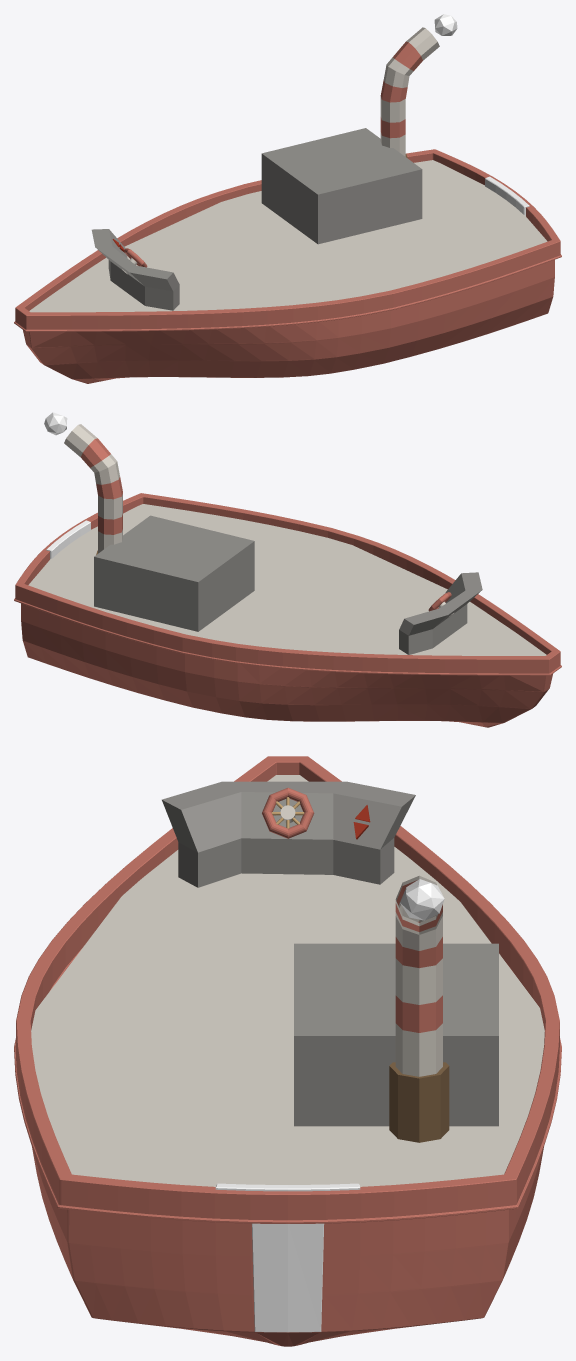
The model's file is boat3.fbx.
The picture shows the model from 3 angles, top to bottom: view 1: azimuth 30°, elevation 25°; view 2: azimuth 150°, elevation 25°; view 3: azimuth 270°, elevation 25°; orthographic projection. The views are drawn at different scales.
Parts seen in each view (by area): view 1: shipBody, deck, room, tube, Control_table; view 2: shipBody, deck, room, tube, Control_table, gas; view 3: deck, shipBody, room, Control_table, tube, wheel, gas.
Part boxes in pixels (x1,y1,x2,y2): shipBody: [14, 149, 561, 383]; deck: [29, 160, 547, 312]; room: [261, 128, 422, 244]; tube: [380, 27, 439, 157]; Control_table: [91, 229, 179, 310]; shipBody: [14, 493, 561, 727]; deck: [28, 504, 546, 655]; room: [94, 515, 254, 631]; tube: [64, 424, 122, 554]; Control_table: [399, 572, 482, 654]; gas: [44, 412, 67, 435]; deck: [31, 775, 544, 1186]; shipBody: [14, 756, 561, 1346]; room: [294, 943, 498, 1126]; Control_table: [162, 781, 415, 887]; tube: [389, 875, 449, 1142]; wheel: [262, 787, 314, 838]; gas: [400, 879, 444, 920].
Size of the model in its own units: 122 by 57.16 by 63.94.
